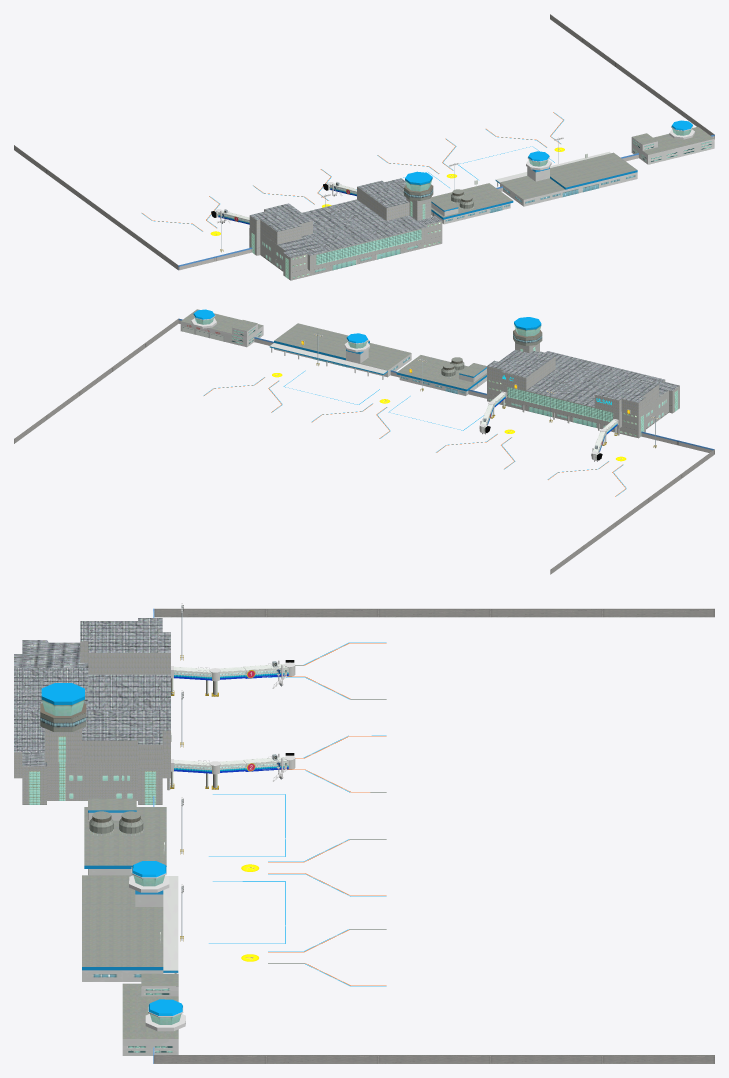
File: terminal.gltf
3 views of the same model, one above another, from view 1: azimuth 30°, elevation 25°; view 2: azimuth 150°, elevation 25°; view 3: azimuth 270°, elevation 25° (orthographic). The views are drawn at different scales.
Parts seen in each view (by area): view 1: node4, node2, node1; view 2: node4, node2, node1; view 3: node4, node2, node1.
Boxes of the visible parts, bbox=[...] form: node4: bbox=[14, 14, 714, 280]; node2: bbox=[218, 151, 637, 224]; node1: bbox=[631, 126, 714, 164]; node4: bbox=[14, 309, 714, 574]; node2: bbox=[269, 323, 617, 452]; node1: bbox=[180, 309, 263, 347]; node4: bbox=[14, 603, 714, 1063]; node2: bbox=[82, 664, 288, 981]; node1: bbox=[122, 973, 178, 1055].
Bounding box in the file's own units: 283 × 30.33 × 187.
